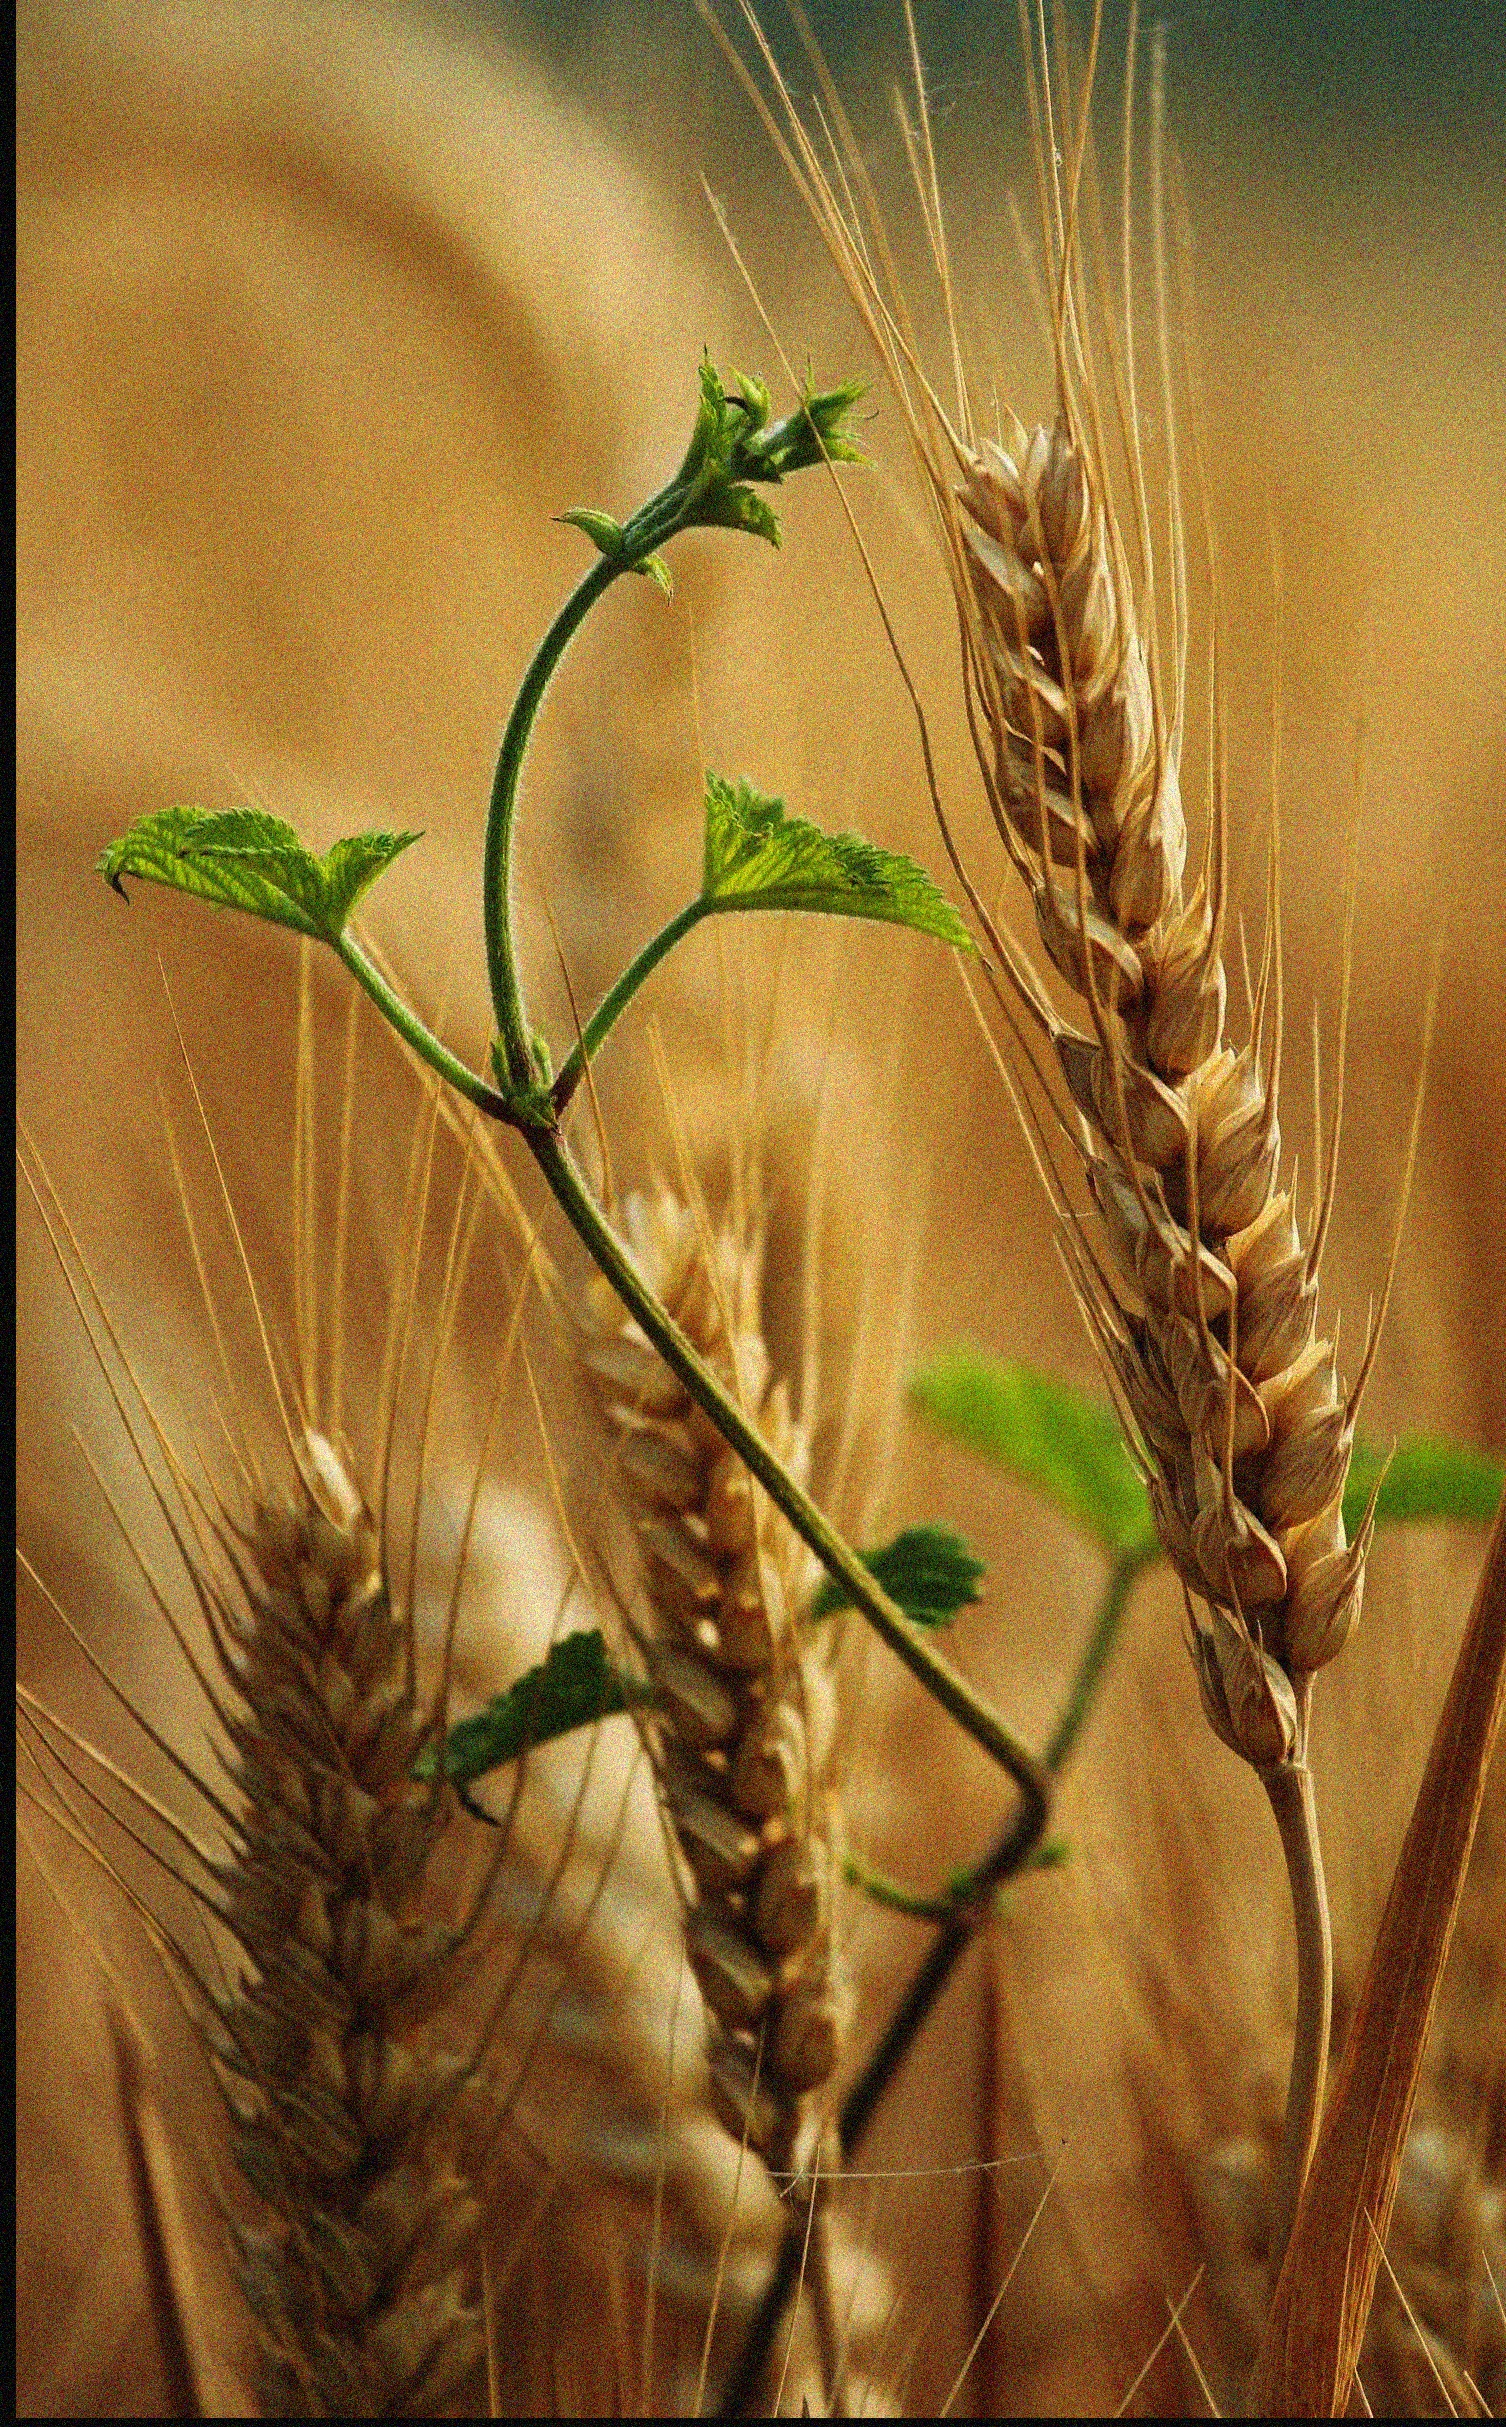wheat: (888, 224, 1431, 1816), (66, 1398, 494, 2406), (588, 1159, 887, 2191)
